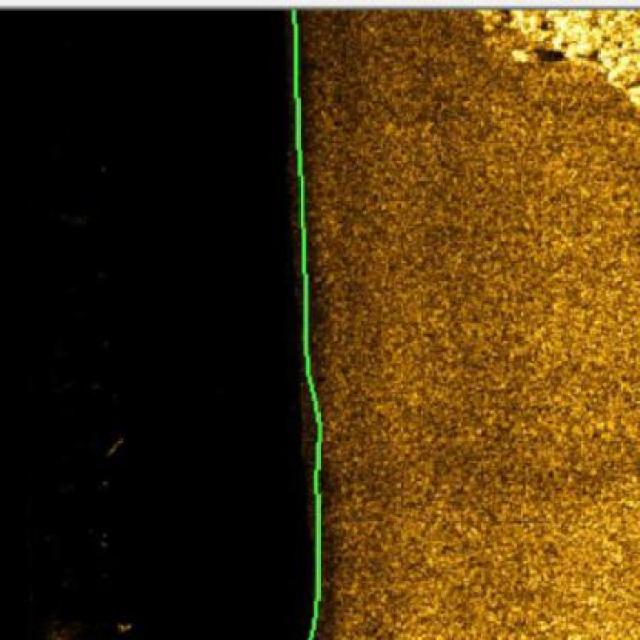bedrock group: (477, 8, 638, 108)
